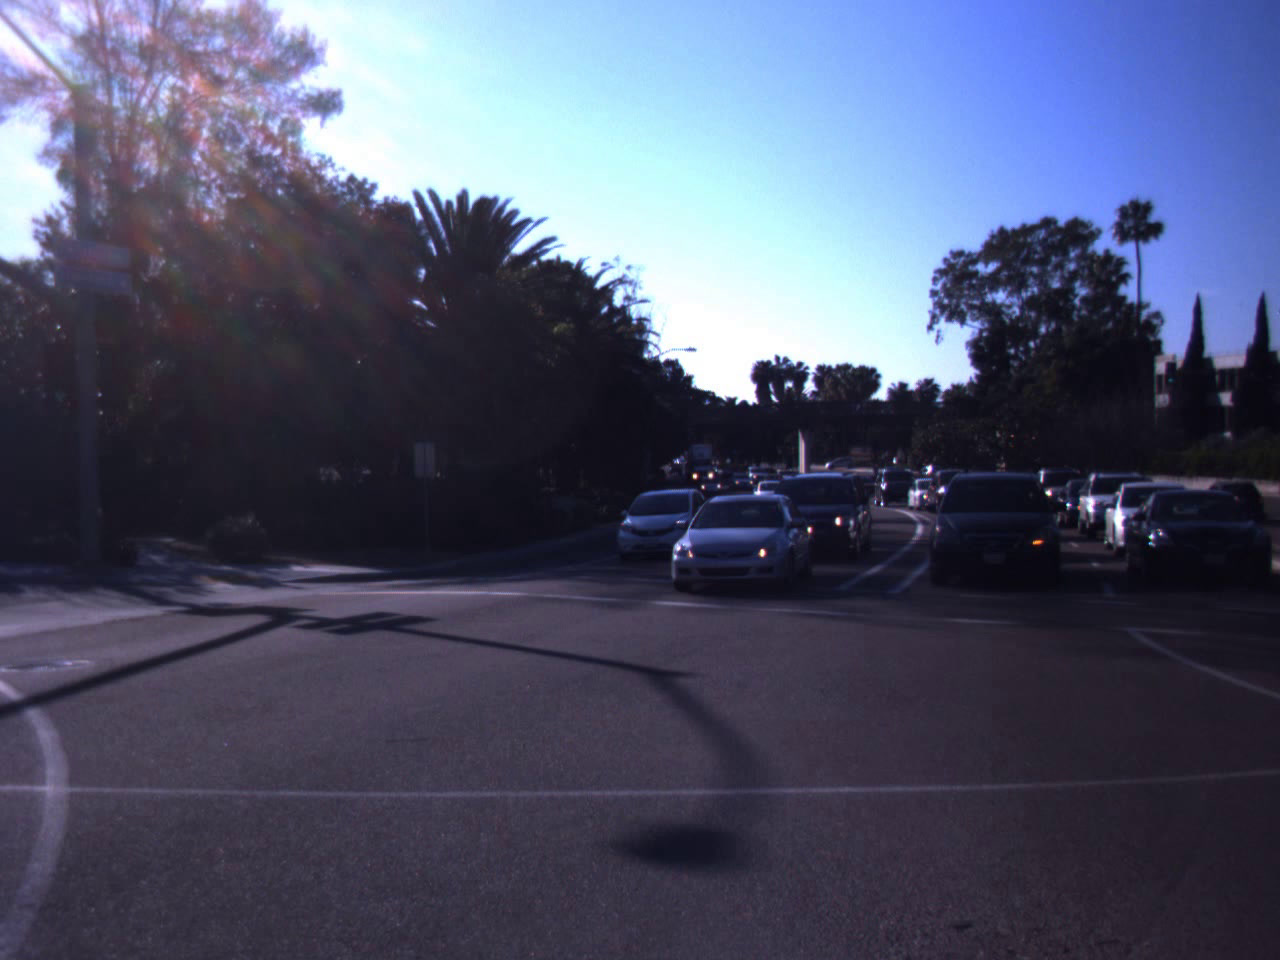go: (41, 351, 83, 406)
